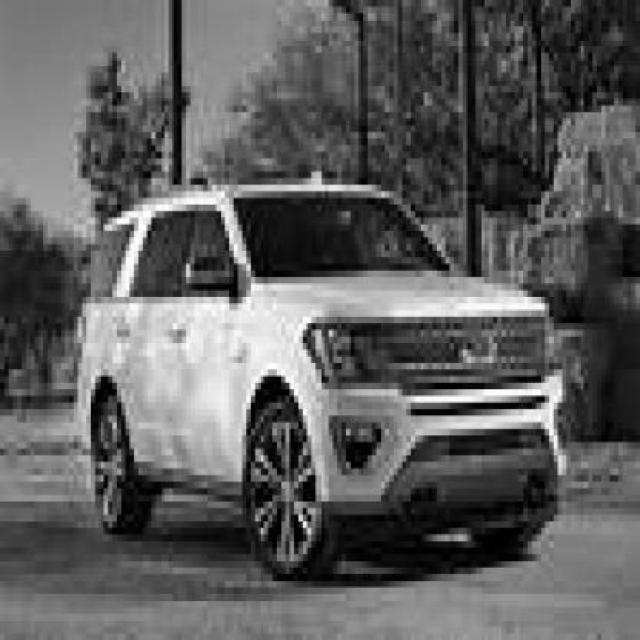SUV: (77, 180, 574, 582)
